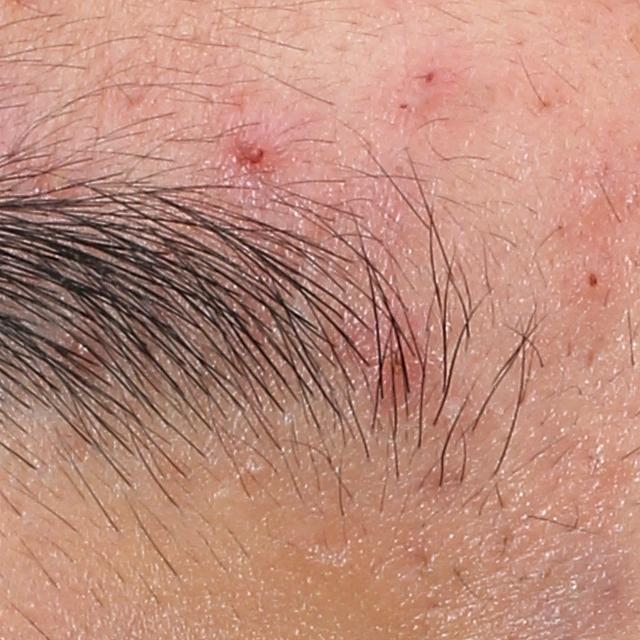comedo: (241, 455, 268, 484), (581, 269, 602, 291)
